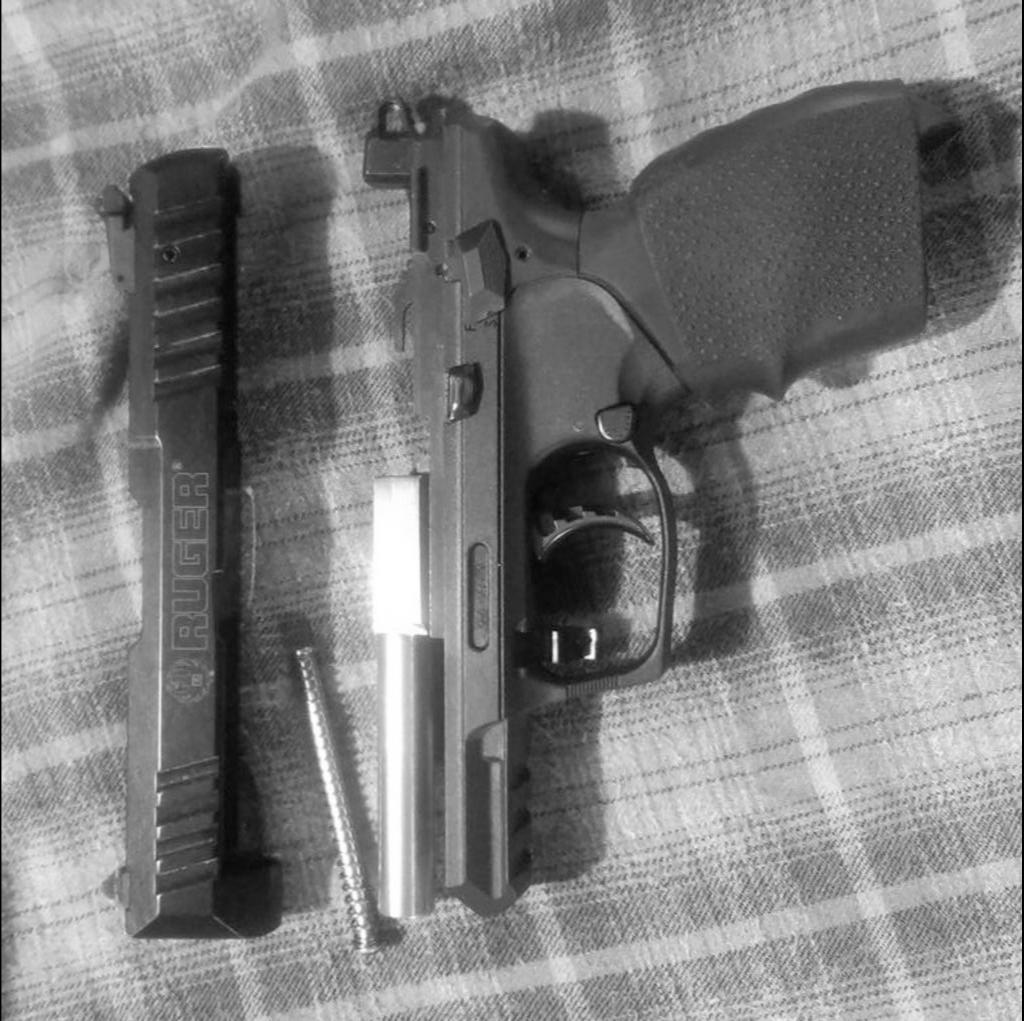gun: (359, 67, 936, 925)
